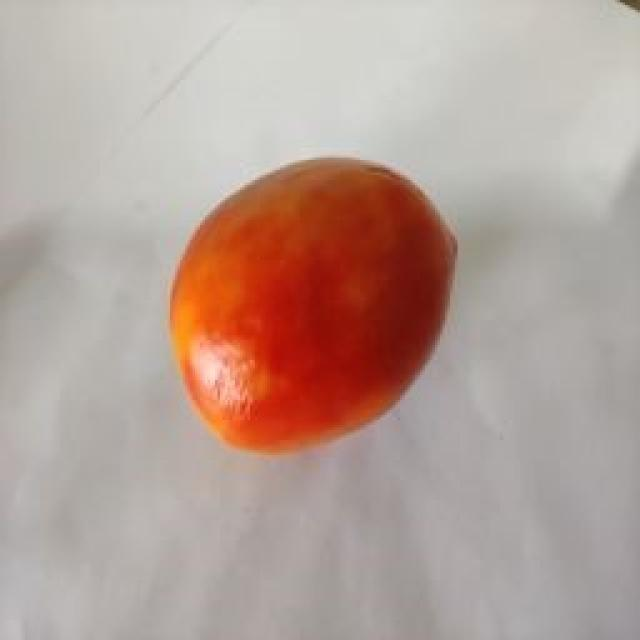Ripe: (162, 150, 462, 461)
